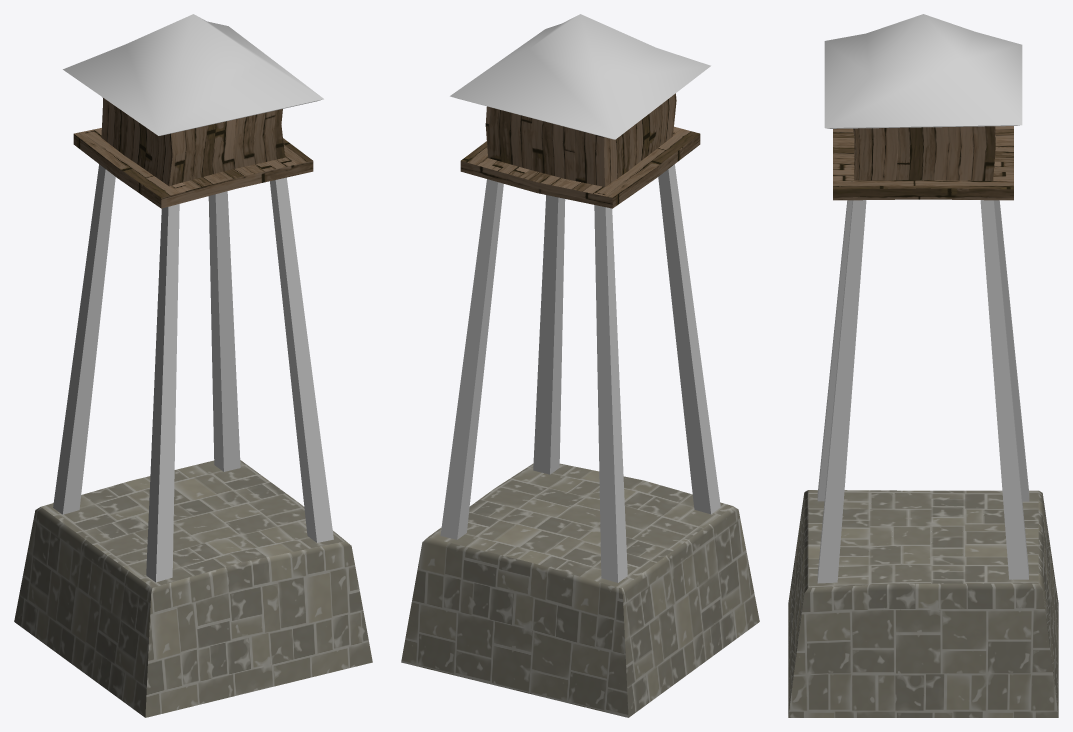
File: GGJ_Building_Watchtower_01.fbx
The picture shows the model from 3 angles, left to right: view 1: azimuth 30°, elevation 25°; view 2: azimuth 150°, elevation 25°; view 3: azimuth 270°, elevation 25°; orthographic projection. The views are drawn at different scales.
Parts seen in each view (by area): view 1: GGJ_Building_Watchtower_01; view 2: GGJ_Building_Watchtower_01; view 3: GGJ_Building_Watchtower_01.
Part boxes in pixels (left/top/right/bottom): GGJ_Building_Watchtower_01: left=14, top=14, right=372, bottom=717; GGJ_Building_Watchtower_01: left=401, top=14, right=759, bottom=717; GGJ_Building_Watchtower_01: left=788, top=14, right=1058, bottom=717.
Size of the model in its own units: 4.92 by 12.99 by 4.92.
